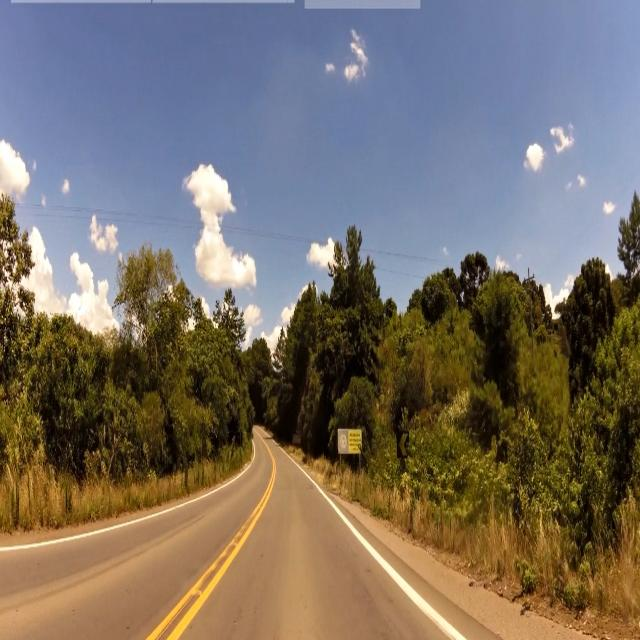Del: (396, 428, 410, 460)
